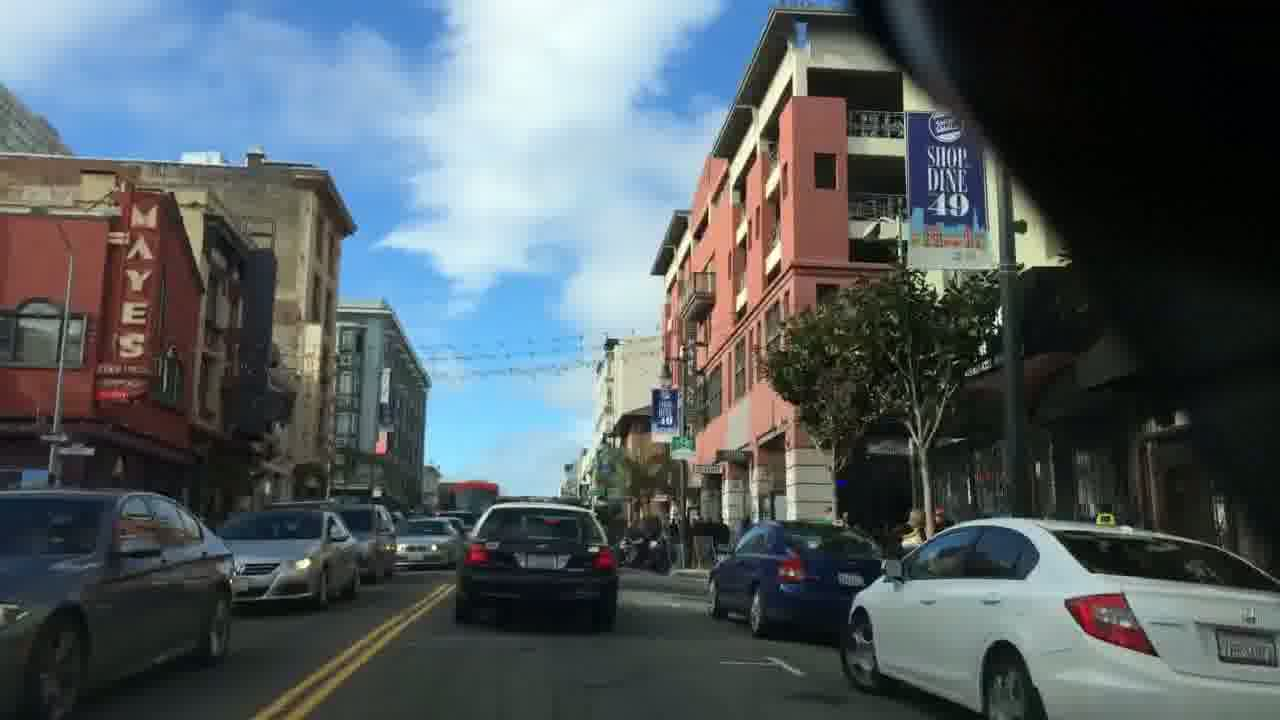car: (837, 515, 1280, 720), (0, 486, 234, 720), (707, 519, 889, 639), (458, 501, 617, 629), (211, 505, 361, 607), (394, 513, 461, 566)
pedestrian: (896, 508, 926, 559)
